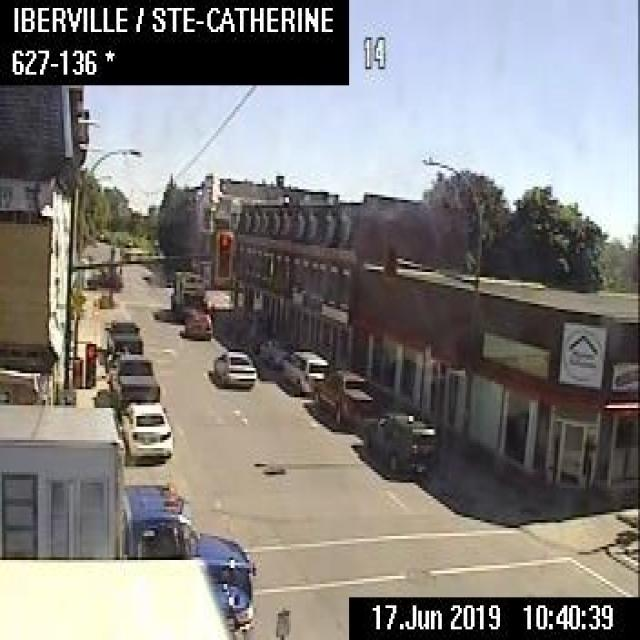vehicle: (0, 403, 255, 637), (0, 558, 289, 638), (357, 409, 436, 472), (310, 366, 372, 428), (116, 397, 171, 461), (107, 349, 158, 401), (276, 346, 328, 394), (169, 266, 211, 321), (211, 347, 254, 386), (102, 315, 141, 357), (82, 264, 120, 291), (184, 310, 211, 338)
